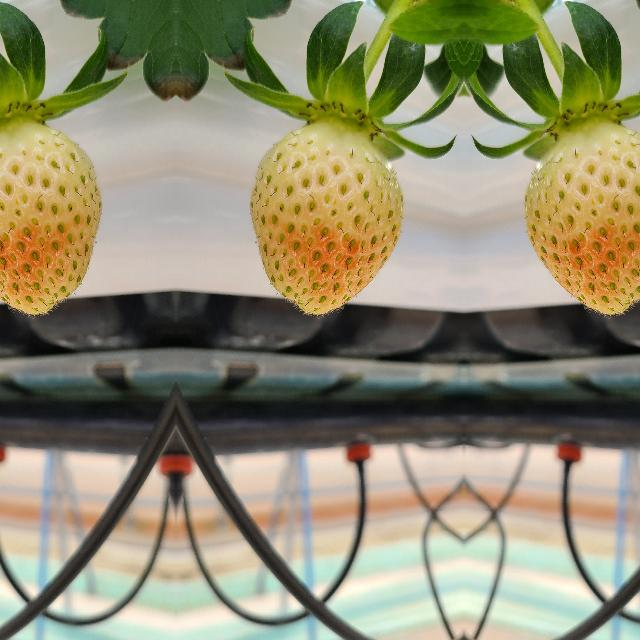Health_50: (248, 121, 404, 319), (522, 121, 640, 319), (0, 121, 101, 319)
